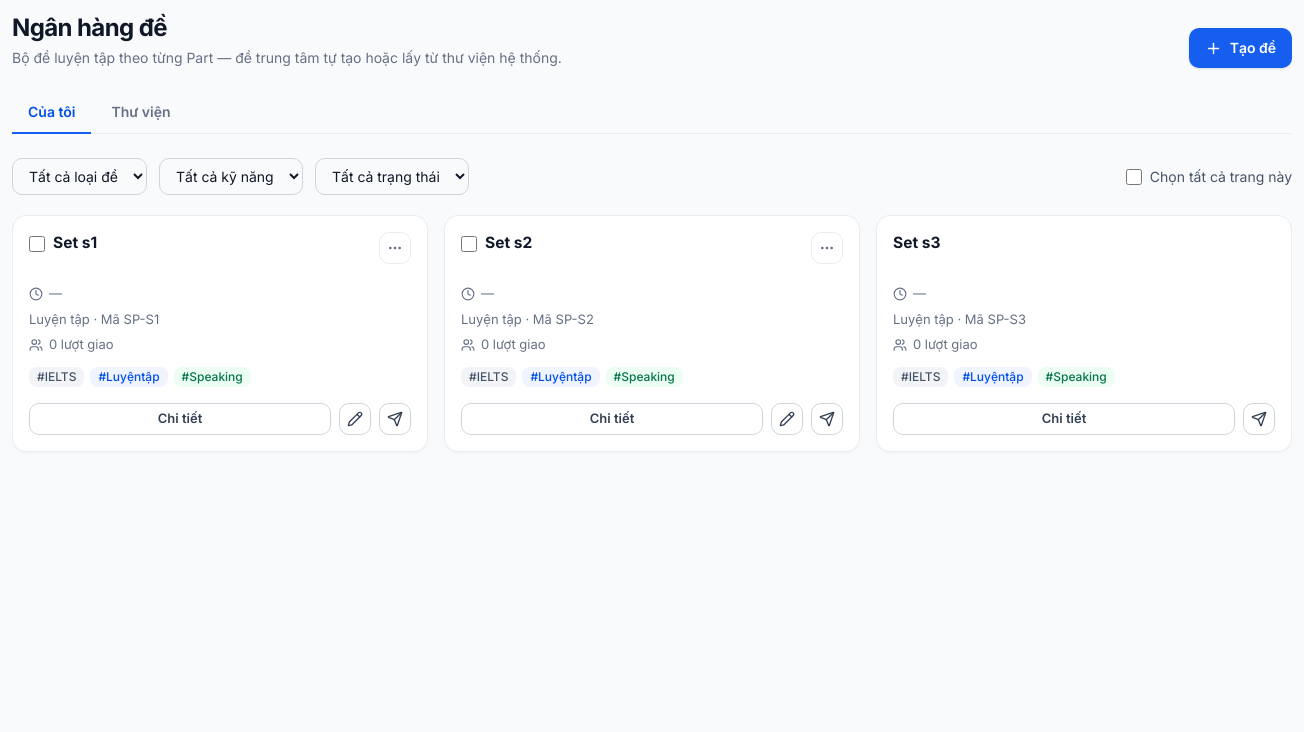
Test: BanksPage lifecycle actions › archives every selected set from the bulk bar
Expected: the element with test id "bank-card-s1" is shown, [12, 215, 428, 452]
Step 1. Click the checkbox with test id "bank-select-s1" → (37, 244), box [29, 236, 45, 252]
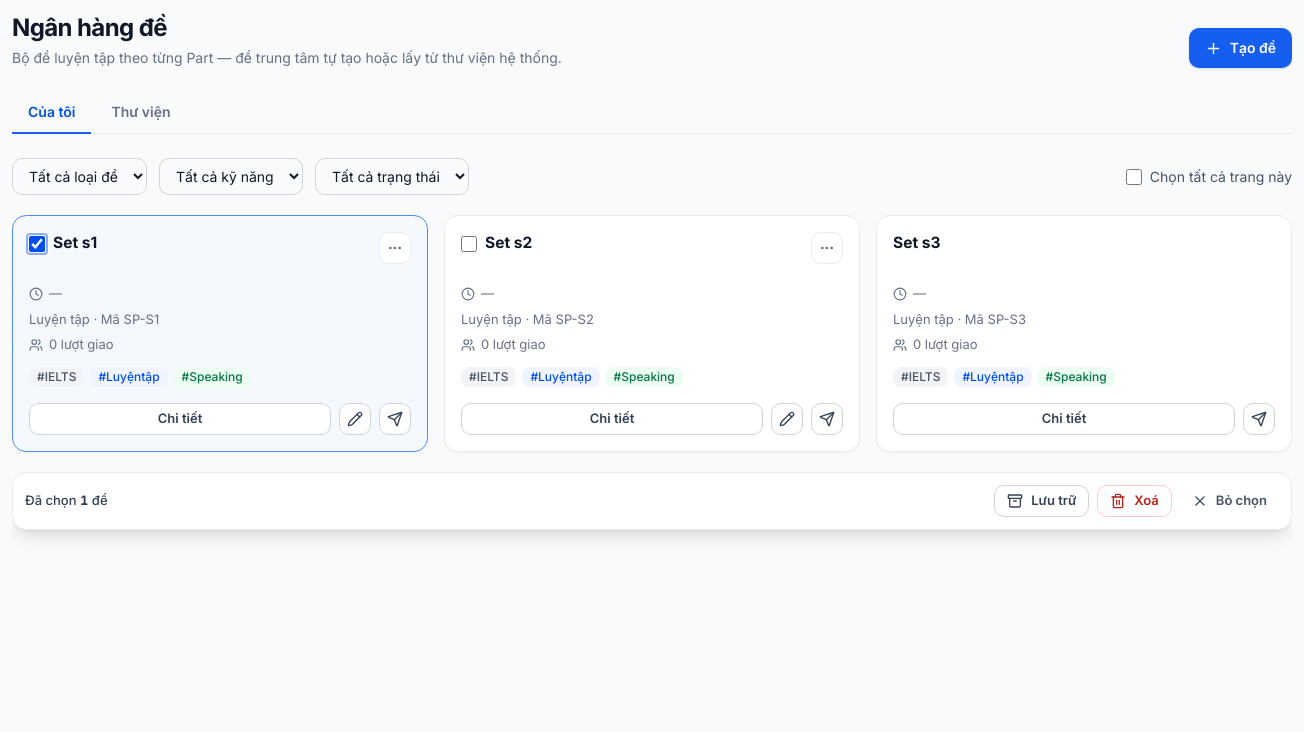
Step 2. Click the checkbox with test id "bank-select-s2" → (469, 244), box [461, 236, 477, 252]
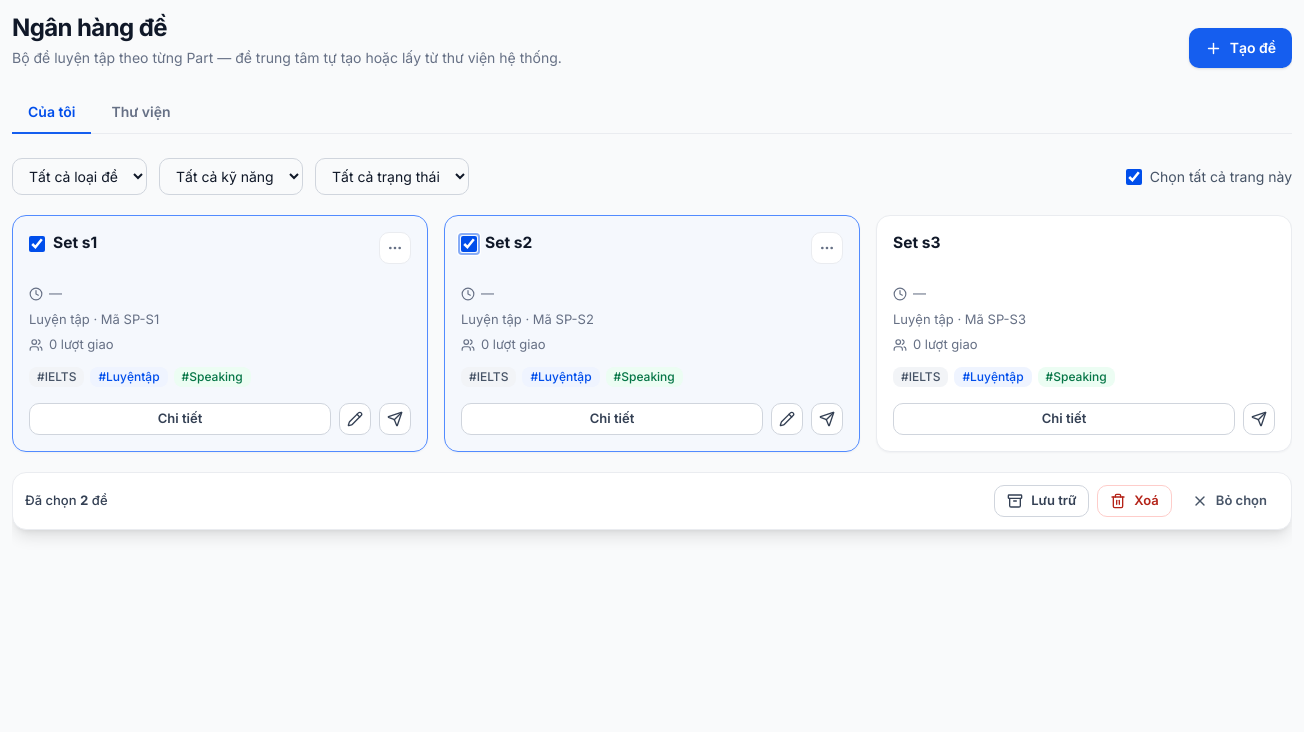
Expected: the element with test id "set-bulk-bar" shows "Đã chọn 2 đề", [12, 472, 1292, 530]
Step 3. Click the button with test id "set-bulk-archive" → (1042, 500), box [994, 484, 1089, 516]
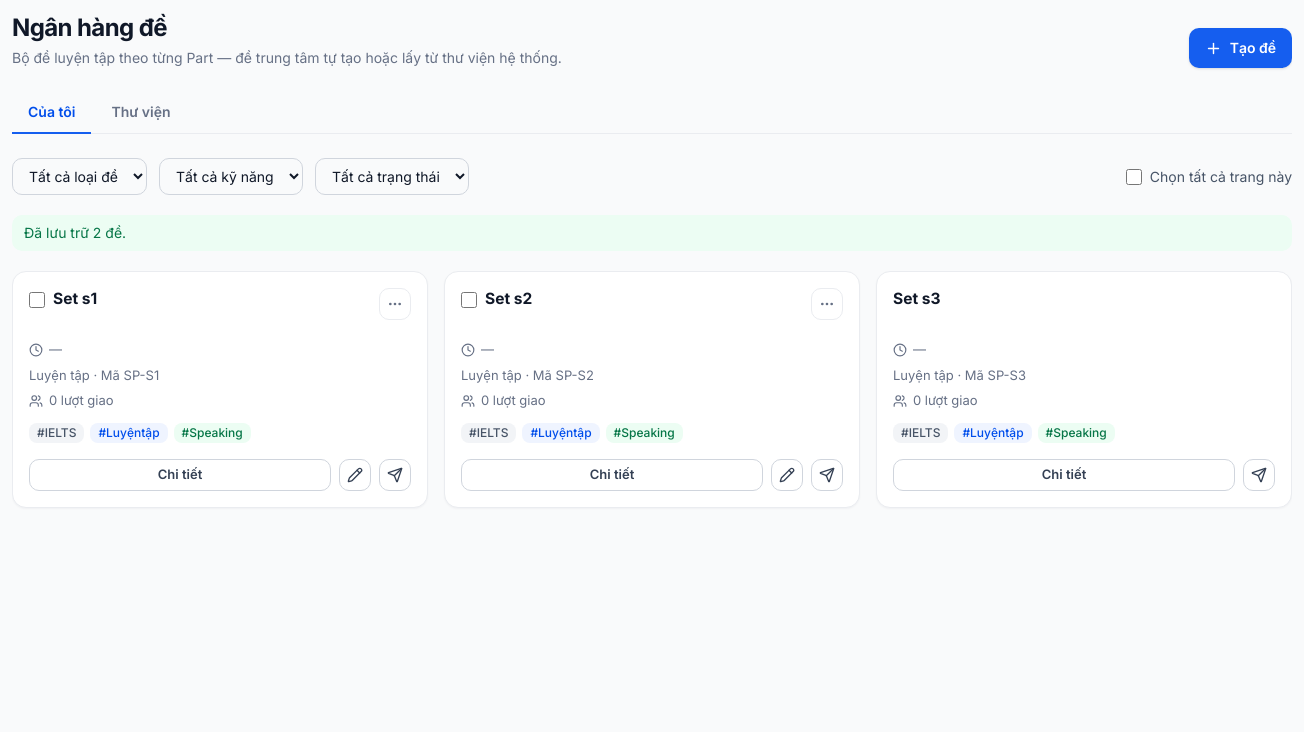
Expected: the text with test id "set-lifecycle-message" reads "Đã lưu trữ 2 đề.", [24, 224, 126, 241]
